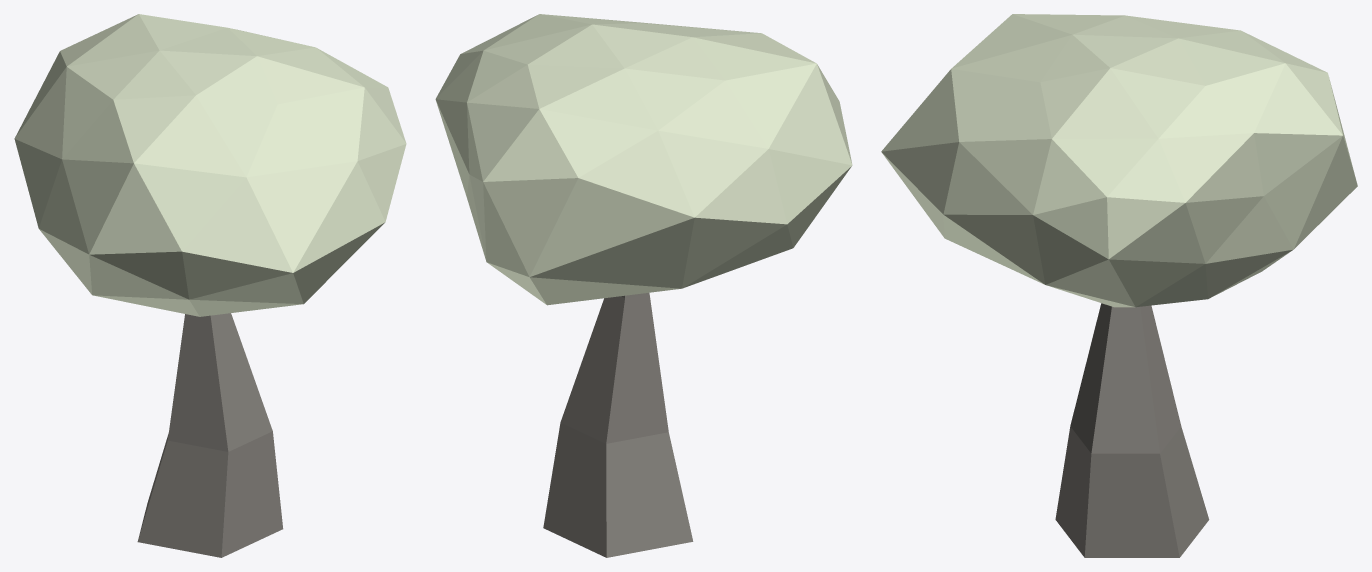
Rendered from Low_Poly_Tree_001Light1.fbx.
3 views of the same model, side by side, from view 1: azimuth 30°, elevation 25°; view 2: azimuth 150°, elevation 25°; view 3: azimuth 270°, elevation 25° (orthographic). The views are drawn at different scales.
Parts seen in each view (by area): view 1: Low_Poly_Tree_001; view 2: Low_Poly_Tree_001; view 3: Low_Poly_Tree_001.
Part boxes in pixels (x1,y1,x2,y2): Low_Poly_Tree_001: [14, 14, 406, 557]; Low_Poly_Tree_001: [435, 14, 852, 557]; Low_Poly_Tree_001: [881, 14, 1357, 557].
Bounding box in the file's own units: 517 × 659 × 589.
